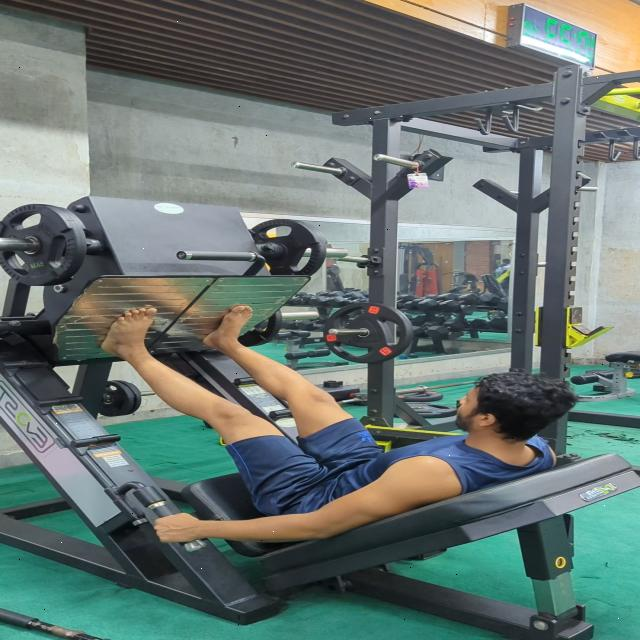Normal_LegPress: (97, 300, 584, 553)
